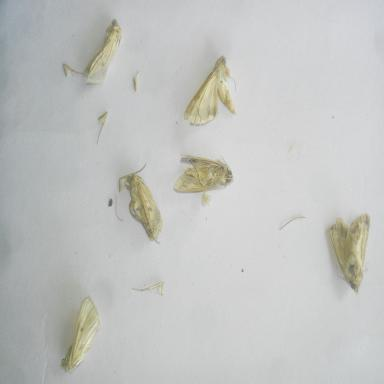abw: (62, 16, 123, 90), (181, 52, 240, 128), (116, 159, 166, 248), (326, 209, 374, 296), (60, 293, 103, 377), (171, 150, 236, 195)
